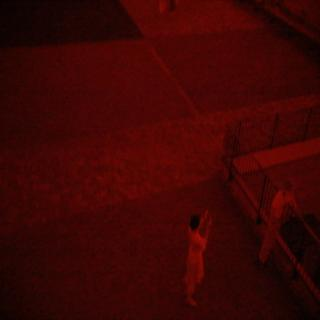person: (257, 176, 297, 270), (181, 208, 210, 312)
